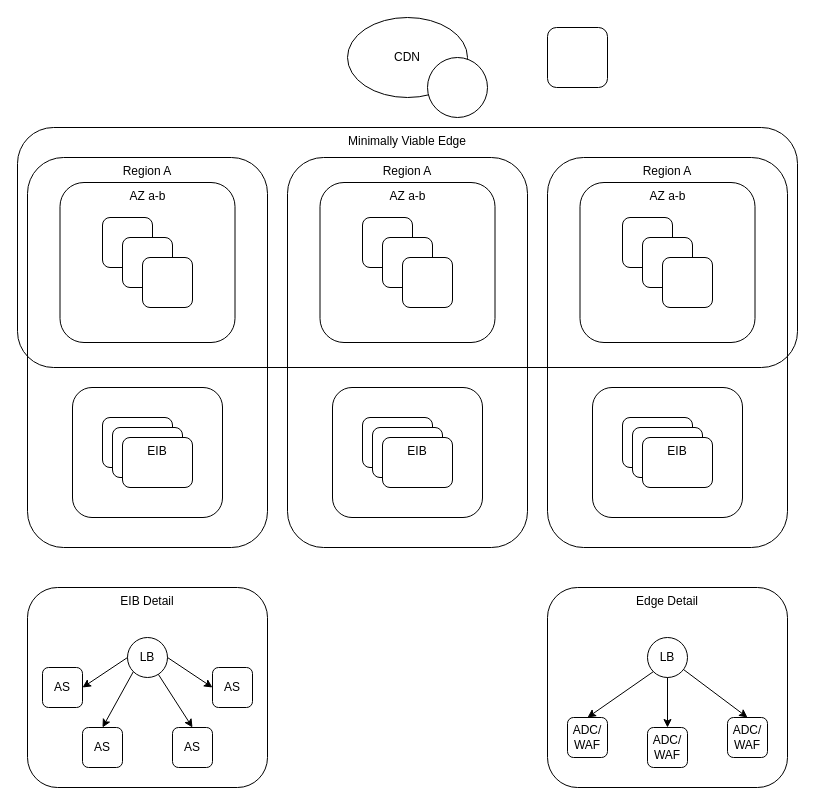
Image size: 815x805. Some labels were removed from this diagram. The centre of each missing label's shape, as x and y in pixels:
DNS/GSLB aas: point (577, 57)
WAFaas: point (457, 87)
